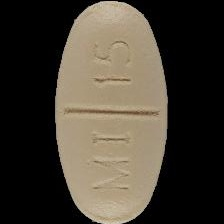55154-6677: (0, 0, 224, 224)
